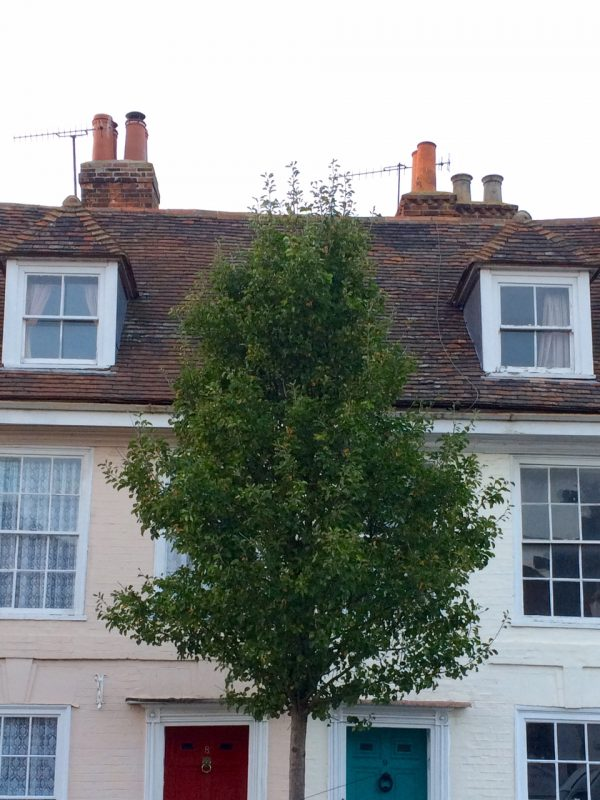tree: (92, 157, 517, 800)
